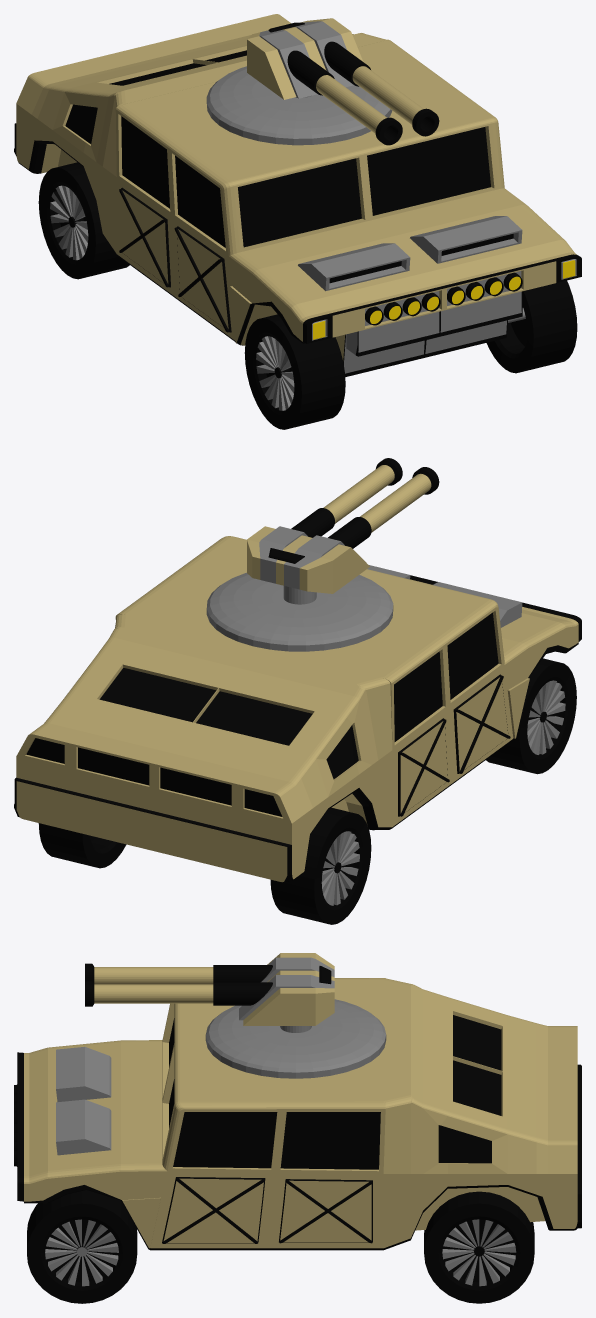
The model's file is Humvee.fbx.
3 renders of one model, top to bottom at view 1: azimuth 30°, elevation 25°; view 2: azimuth 150°, elevation 25°; view 3: azimuth 270°, elevation 25°, orthographic. The views are drawn at different scales.
Parts seen in each view (by area): view 1: Cube, Wheel, Cube.001, Wheel.001; view 2: Cube, Cube.001, Wheel.001, Wheel; view 3: Cube, Cube.001, Wheel, Wheel.001.
Boxes of the visible parts, x1,y1,x2,y2 form: Cube: (14, 14, 581, 376); Wheel: (244, 280, 577, 429); Cube.001: (247, 18, 439, 145); Wheel.001: (38, 162, 129, 279); Cube: (14, 536, 581, 882); Cube.001: (247, 458, 439, 604); Wheel.001: (38, 807, 371, 924); Wheel: (486, 658, 576, 774); Cube: (14, 978, 581, 1250); Cube.001: (85, 953, 334, 1032); Wheel: (27, 1190, 137, 1303); Wheel.001: (424, 1191, 534, 1303).
Bounding box in the file's own units: 277 × 258 × 498.
